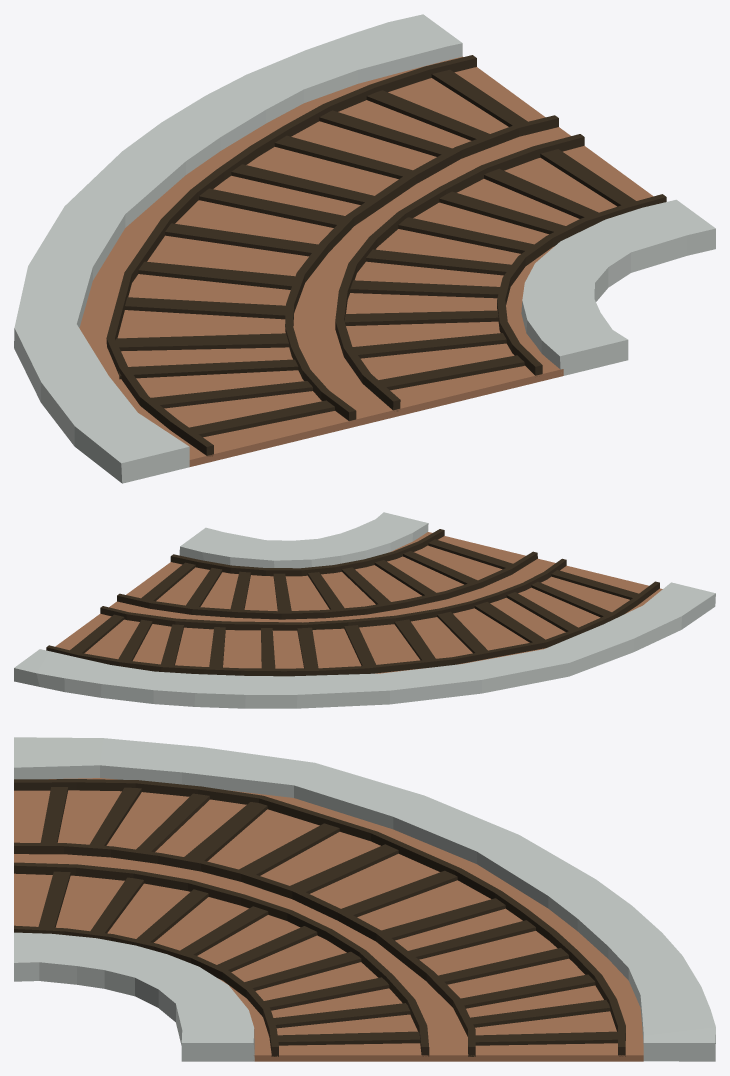
The model's file is RailTrackTile_5.fbx.
3 views of the same model, one above another, from view 1: azimuth 30°, elevation 25°; view 2: azimuth 150°, elevation 25°; view 3: azimuth 270°, elevation 25° (orthographic). The views are drawn at different scales.
Visible parts, largest first — view 1: RailTrackTile_5; view 2: RailTrackTile_5; view 3: RailTrackTile_5.
Part boxes in pixels (left/top/right/bottom): RailTrackTile_5: left=14, top=14, right=715, bottom=483; RailTrackTile_5: left=14, top=512, right=715, bottom=708; RailTrackTile_5: left=14, top=737, right=715, bottom=1061.
Bounding box in the file's own units: 1005 × 29.42 × 975.
